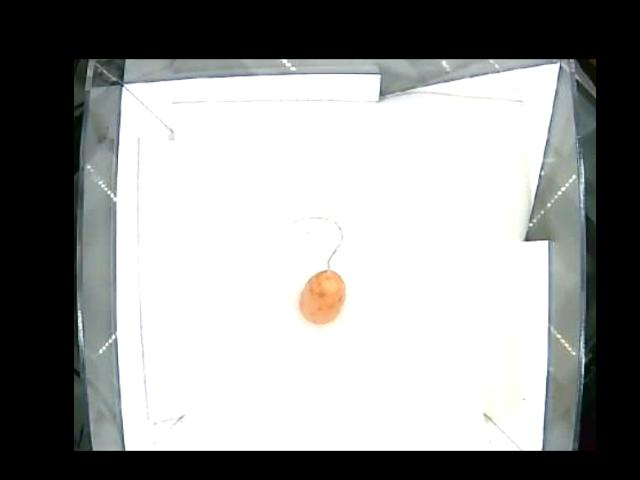Carrot: (289, 264, 346, 322)
